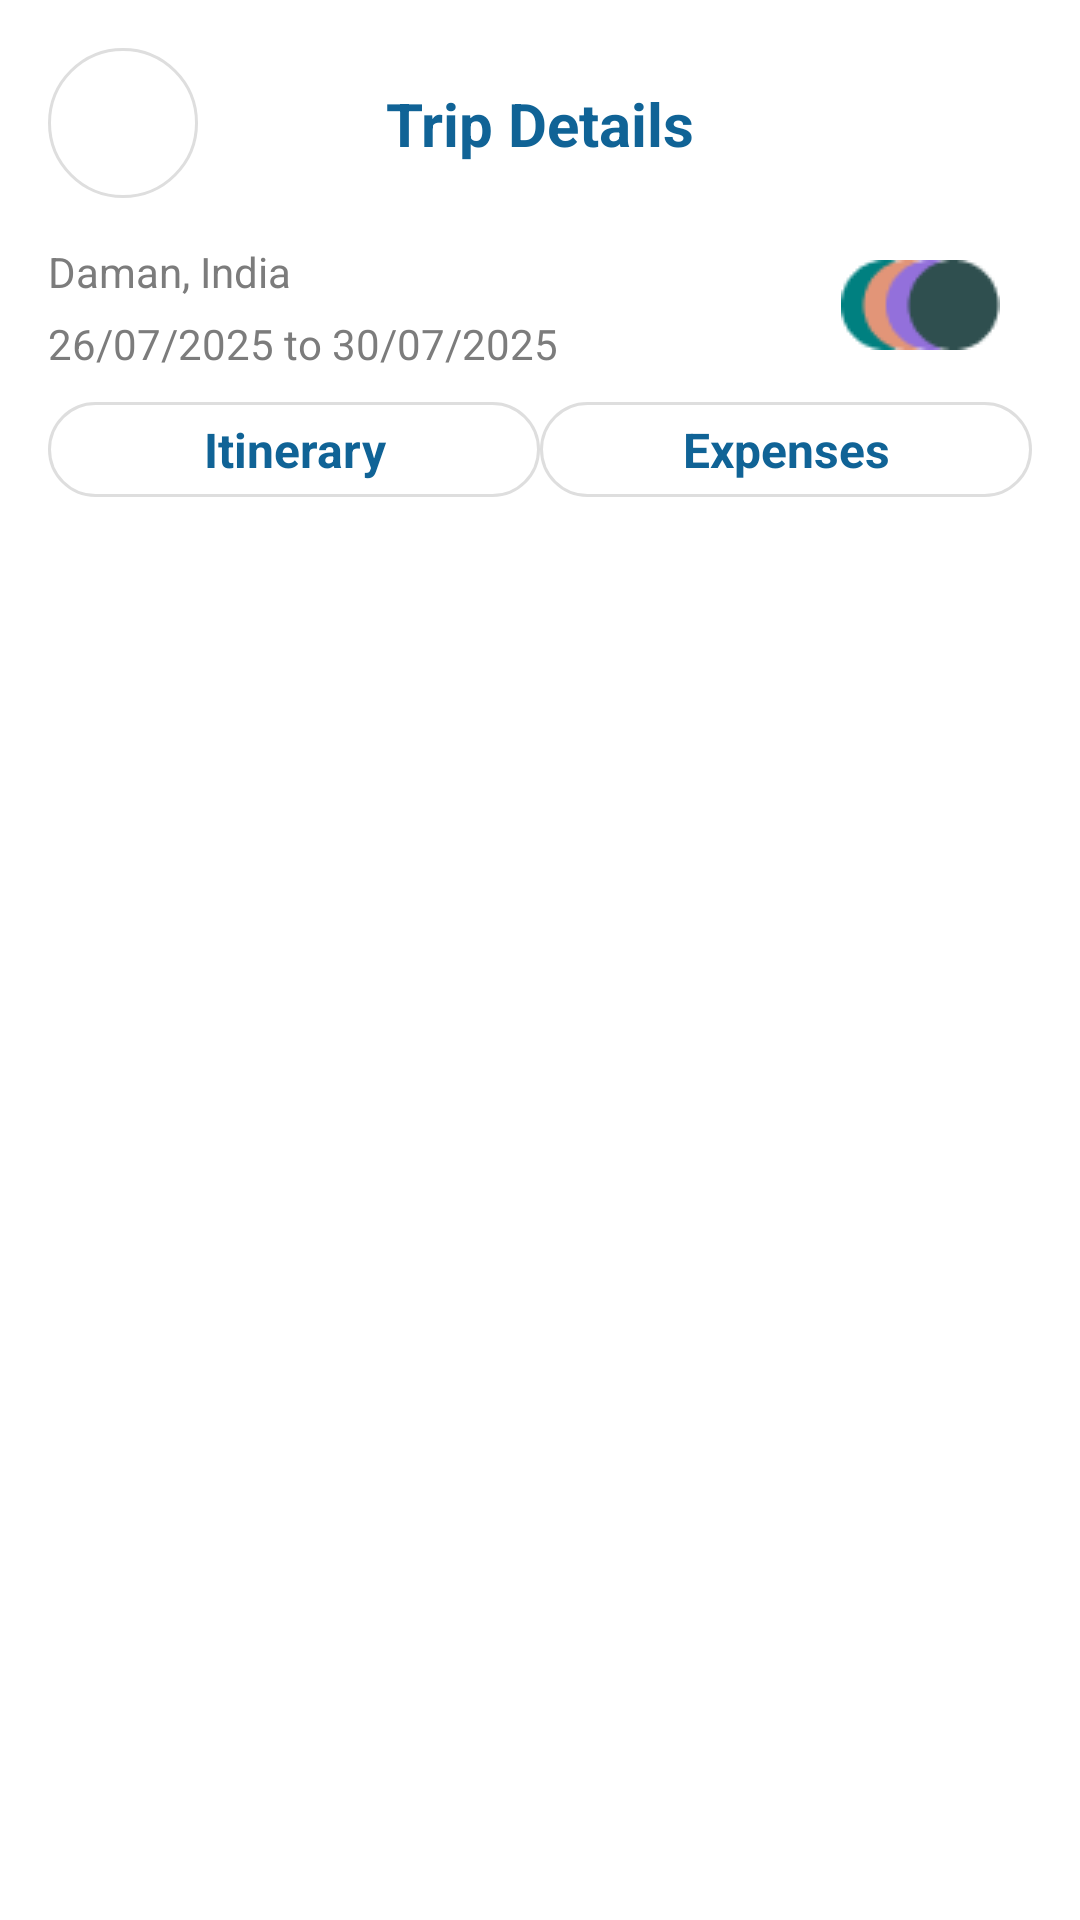

Where icons sit on this 1080px x 1920px app screen, as (x1, y1, x2, y2):
membersicon: (841, 260, 1000, 350)
